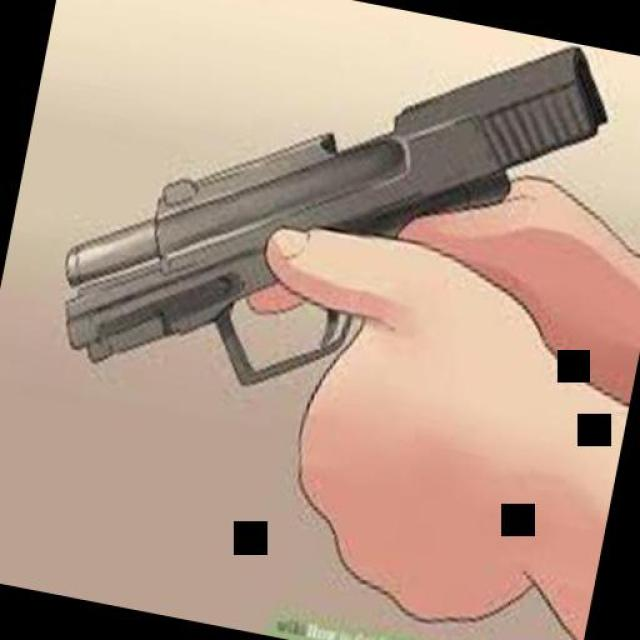gun: (32, 0, 619, 432)
